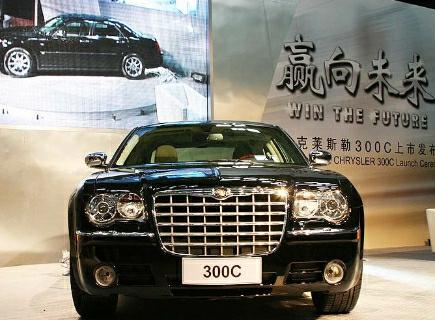car: (52, 112, 366, 320), (2, 9, 177, 83)
